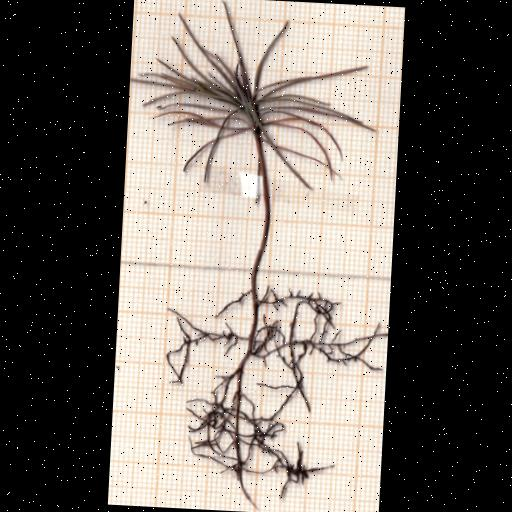flowerCedr: (138, 2, 373, 179)
rootCedr: (165, 289, 378, 504)
stemCedr: (251, 133, 271, 289)
